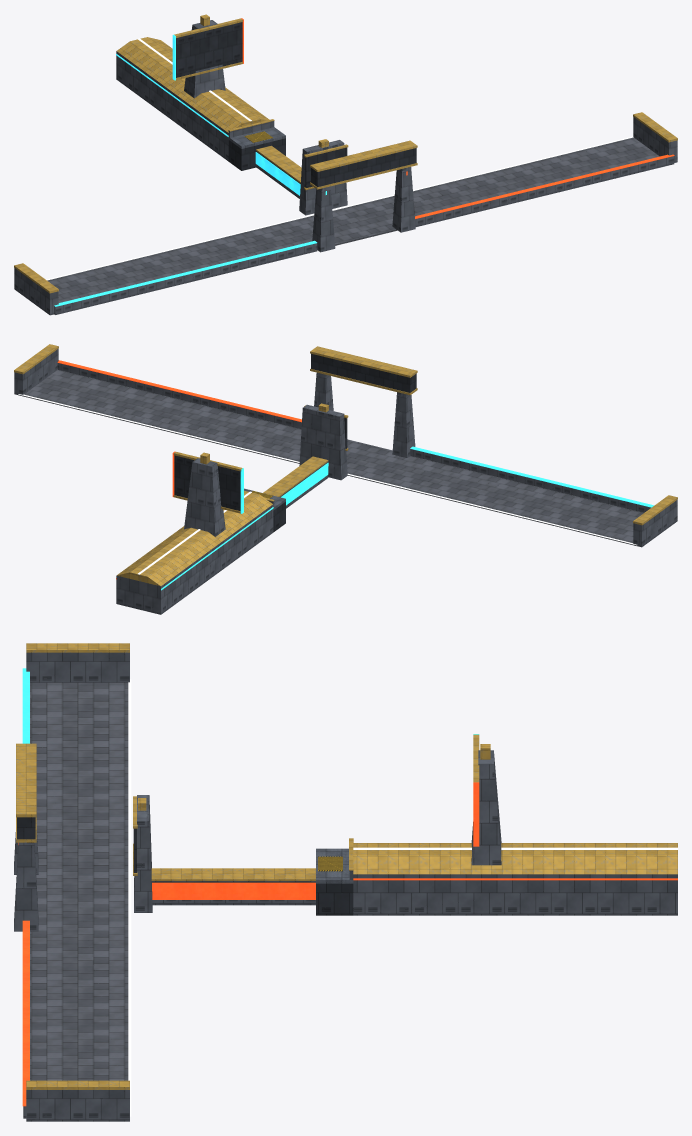
The model's file is env_center.glb.
The picture shows the model from 3 angles, top to bottom: view 1: azimuth 30°, elevation 25°; view 2: azimuth 150°, elevation 25°; view 3: azimuth 270°, elevation 25°; orthographic projection. The views are drawn at different scales.
Visible parts, largest first — view 1: env_center; view 2: env_center; view 3: env_center.
Boxes of the visible parts, <box> form: env_center: <box>14,14,677,315</box>; env_center: <box>14,344,677,614</box>; env_center: <box>14,643,677,1121</box>.
Size of the model in its own units: 102 by 16.4 by 64.2.
9 materials, 9 textured.
